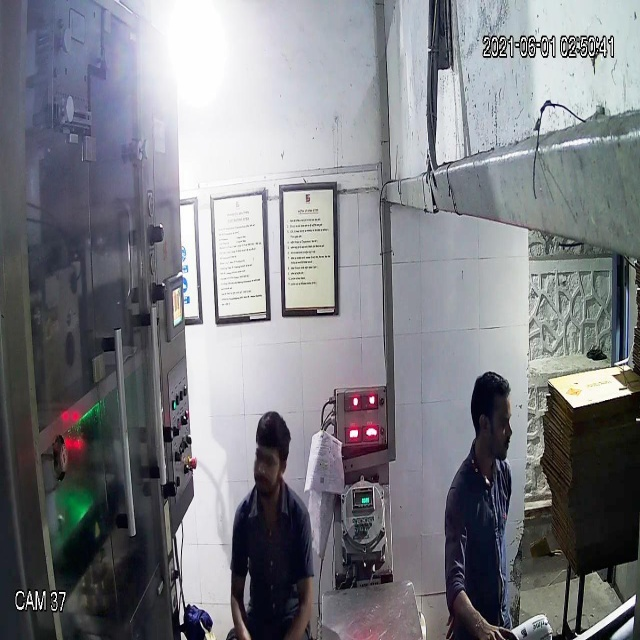Sin_gafas: (470, 407, 515, 441), (248, 441, 289, 476)
